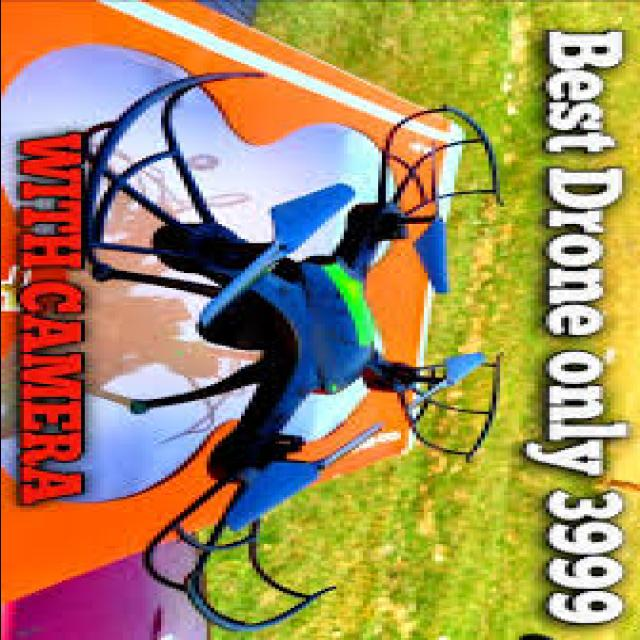drone: (61, 49, 514, 640)
